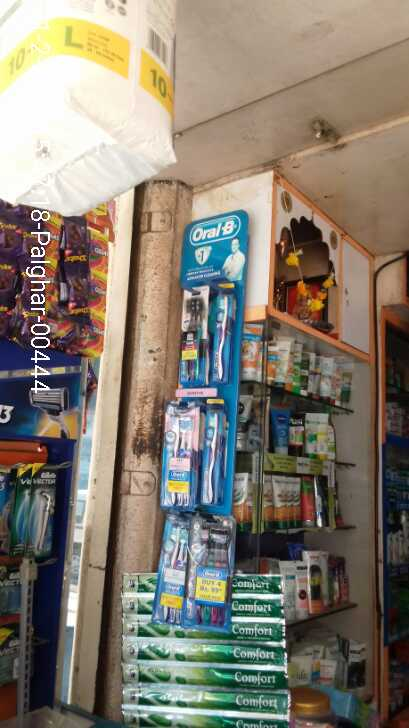oralb: (159, 522, 235, 619), (164, 411, 226, 511), (174, 293, 234, 388)
